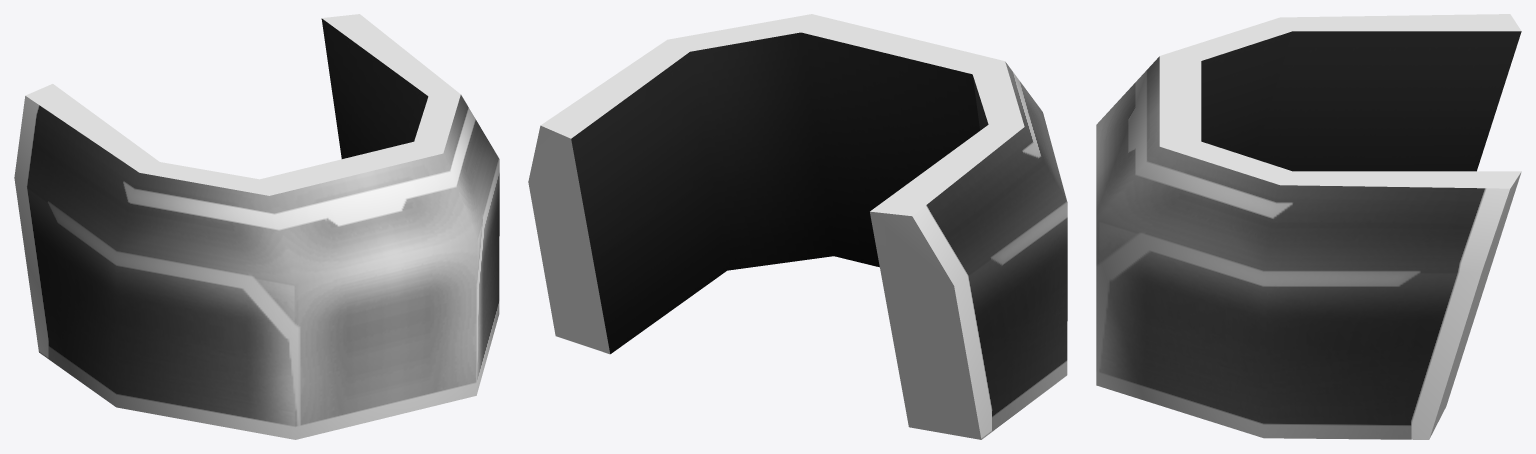
Rendered from PoliceBot_PlasmaShield.fbx.
The picture shows the model from 3 angles, left to right: view 1: azimuth 30°, elevation 25°; view 2: azimuth 150°, elevation 25°; view 3: azimuth 270°, elevation 25°; orthographic projection. The views are drawn at different scales.
Parts seen in each view (by area): view 1: PoliceBot_Shield; view 2: PoliceBot_Shield; view 3: PoliceBot_Shield.
Boxes of the visible parts, x1,y1,x2,y2 form: PoliceBot_Shield: (14, 14, 499, 439); PoliceBot_Shield: (528, 14, 1067, 439); PoliceBot_Shield: (1096, 14, 1521, 439).
Size of the model in its own units: 172 by 95.78 by 155.
Materials: 1 (1 with a texture image).
